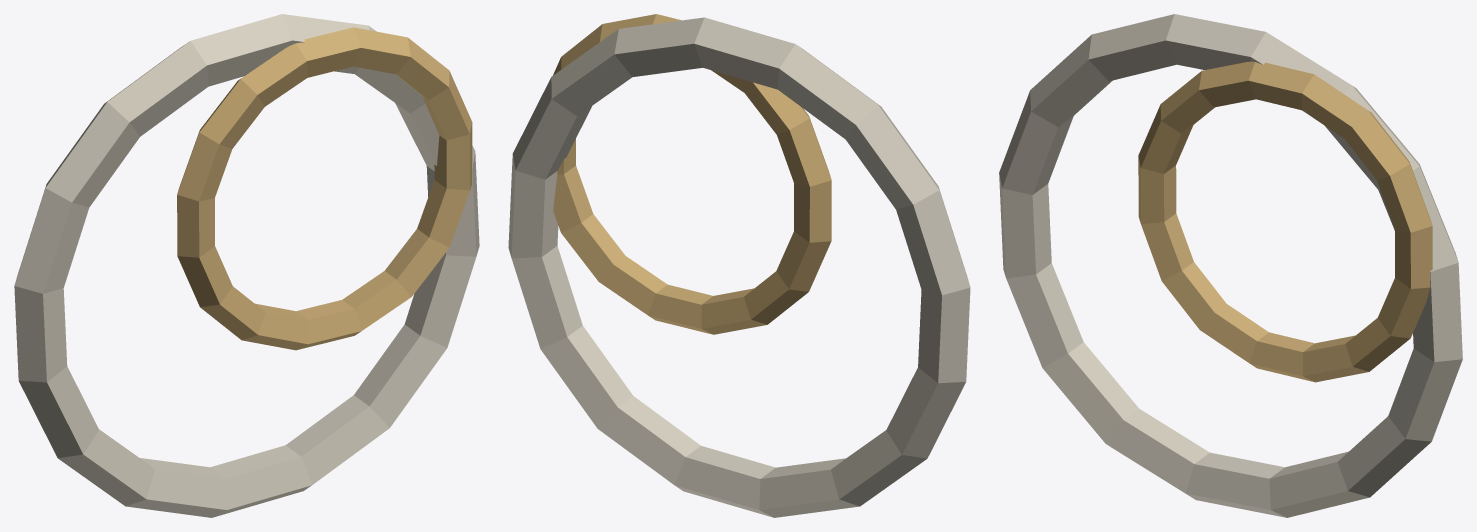
File: orbit.glb
3 renders of one model, left to right at view 1: azimuth 30°, elevation 25°; view 2: azimuth 150°, elevation 25°; view 3: azimuth 330°, elevation 25°, orthographic.
Visible parts, largest first — view 1: orbit; view 2: orbit; view 3: orbit.
Part boxes in pixels (bbox=[...]): orbit: bbox=[14, 14, 479, 517]; orbit: bbox=[508, 14, 970, 517]; orbit: bbox=[999, 14, 1462, 517].
Bounding box in the file's own units: 0.3159 × 0.3159 × 0.04.
